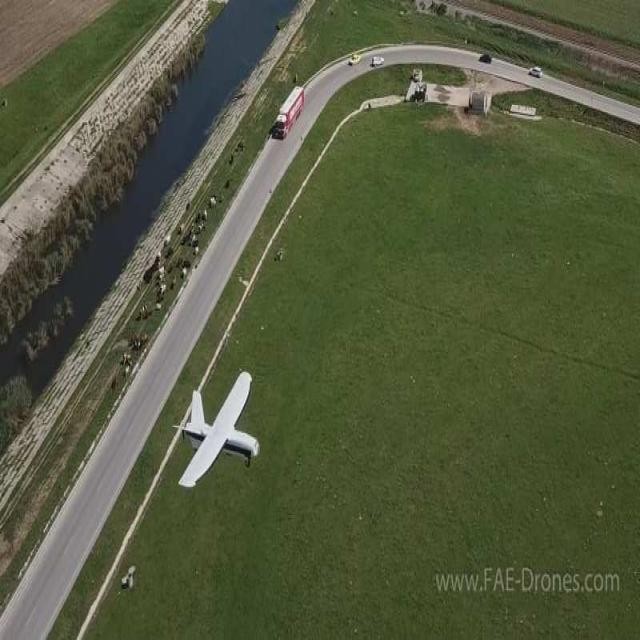iha: (207, 366, 230, 514)
